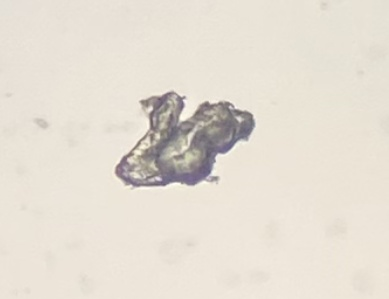microplastic: (114, 90, 255, 188)
